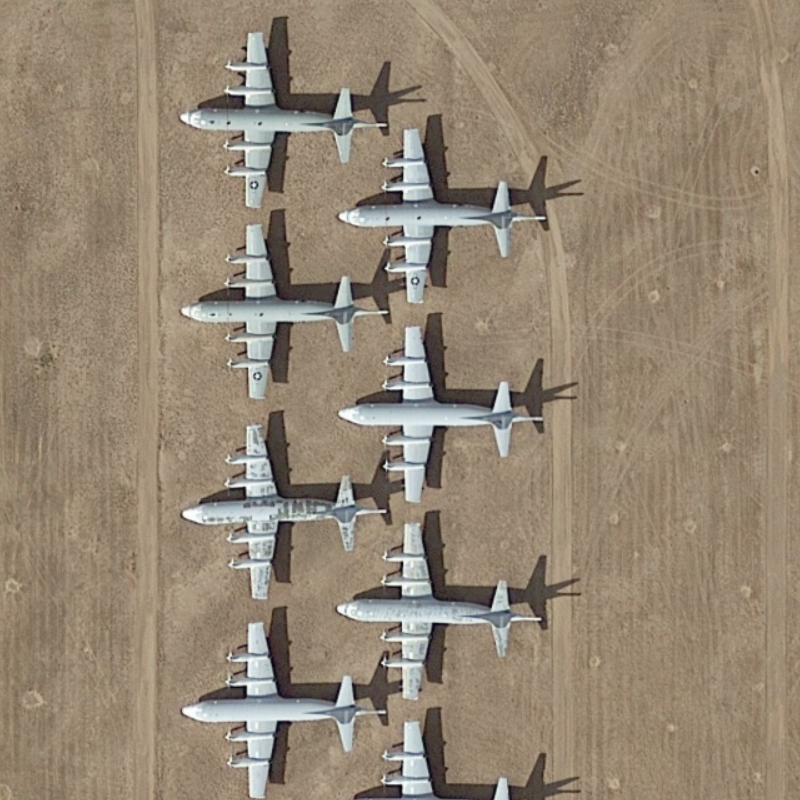A9: (170, 221, 398, 406), (337, 128, 565, 311), (336, 518, 559, 705), (170, 420, 394, 605), (181, 17, 396, 206), (170, 613, 387, 800), (331, 323, 554, 503)
